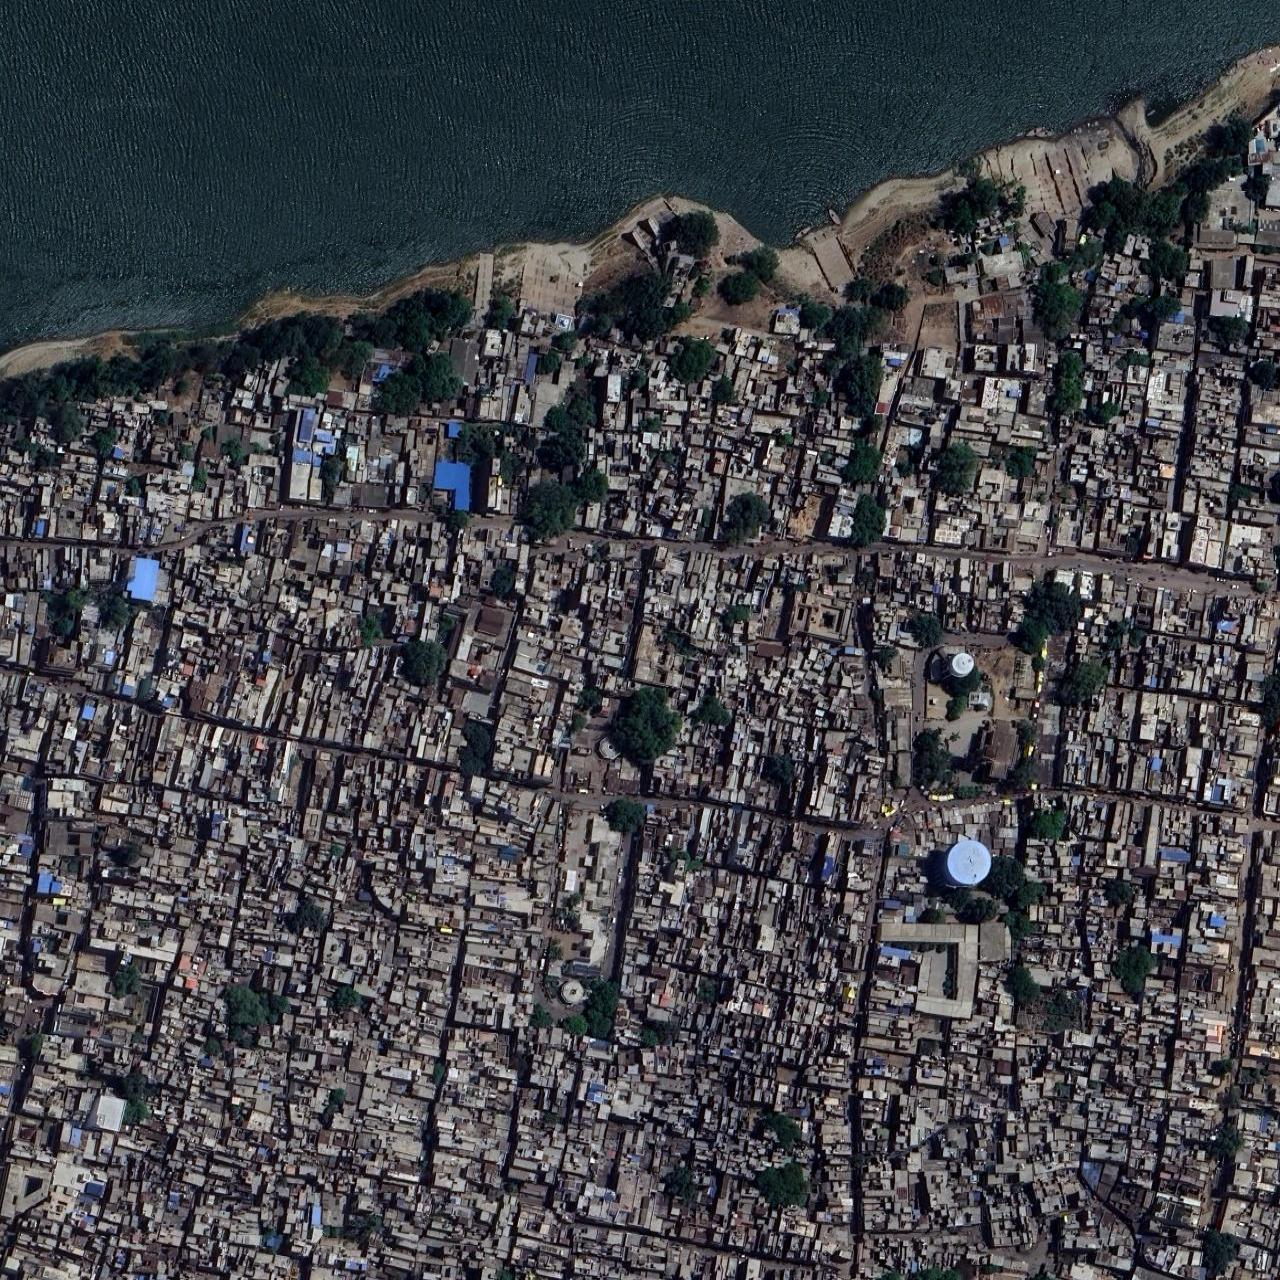greenery: (917, 79, 1275, 491), (450, 207, 735, 533), (0, 278, 482, 451), (717, 231, 915, 574), (581, 665, 708, 808), (1008, 567, 1119, 712), (354, 591, 462, 707), (45, 574, 139, 679), (665, 312, 760, 411), (202, 965, 275, 1051)
house: (4, 458, 1280, 1274), (52, 429, 1264, 1245), (544, 300, 1271, 907), (1033, 124, 1280, 726), (348, 407, 561, 734)
water: (2, 5, 1276, 345)
